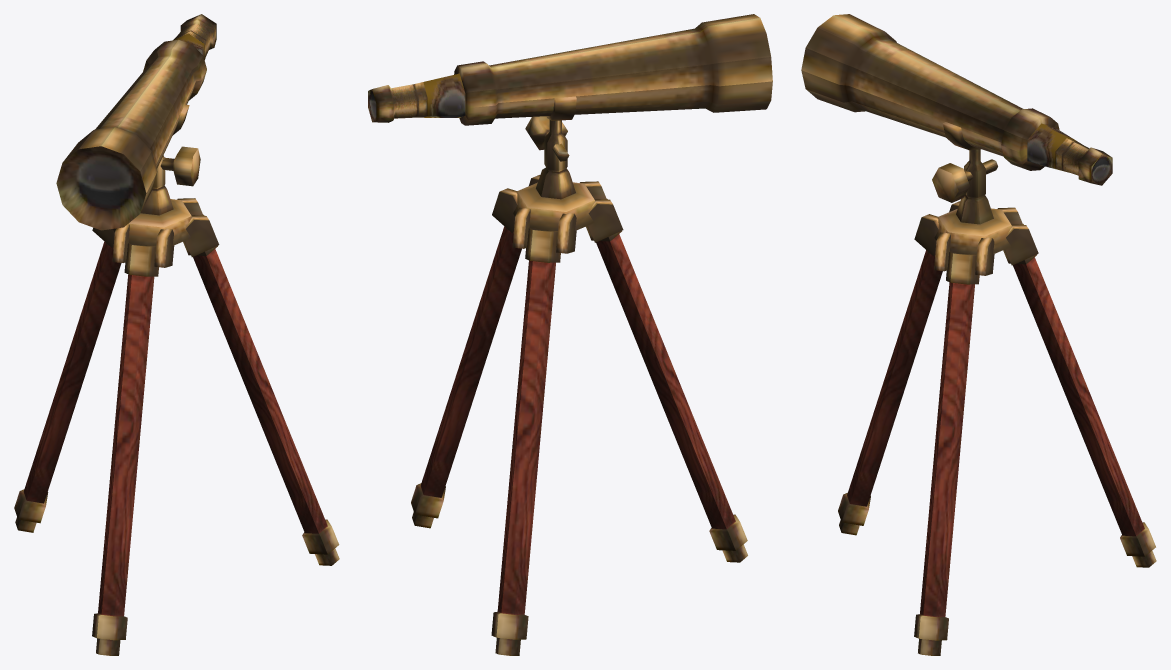
Rendered from int_pir_telescope.dae.
3 renders of one model, left to right at view 1: azimuth 30°, elevation 25°; view 2: azimuth 150°, elevation 25°; view 3: azimuth 270°, elevation 25°, orthographic. The views are drawn at different scales.
Parts seen in each view (by area): view 1: int_pir_telescope; view 2: int_pir_telescope; view 3: int_pir_telescope.
Boxes of the visible parts, x1,y1,x2,y2 form: int_pir_telescope: (14,14,339,655); int_pir_telescope: (368,14,772,655); int_pir_telescope: (801,14,1156,655).
Bounding box in the file's own units: 27.08 × 42.91 × 27.08.
1 material, 1 textured.
